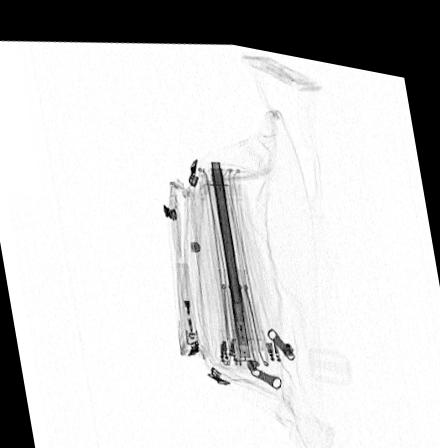Lighter: (177, 255, 200, 348)
